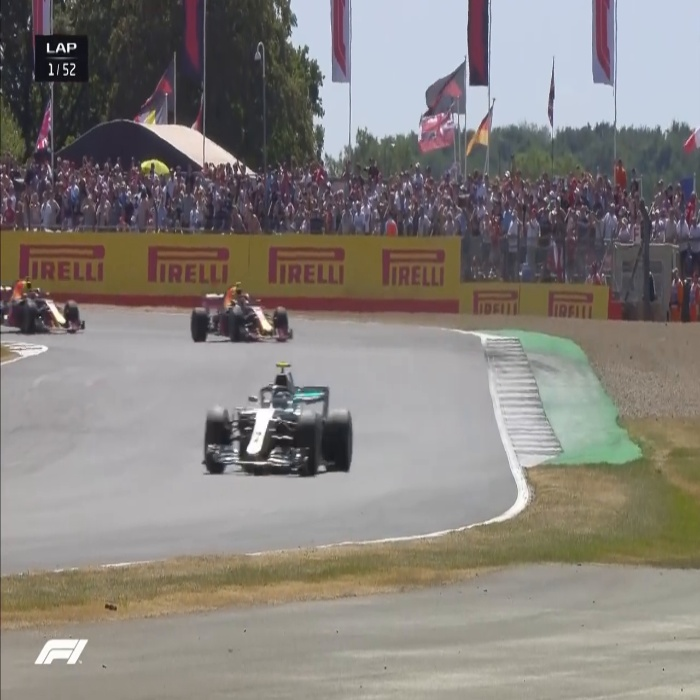f1_car: (186, 354, 378, 497), (175, 282, 304, 349), (1, 257, 95, 345)
